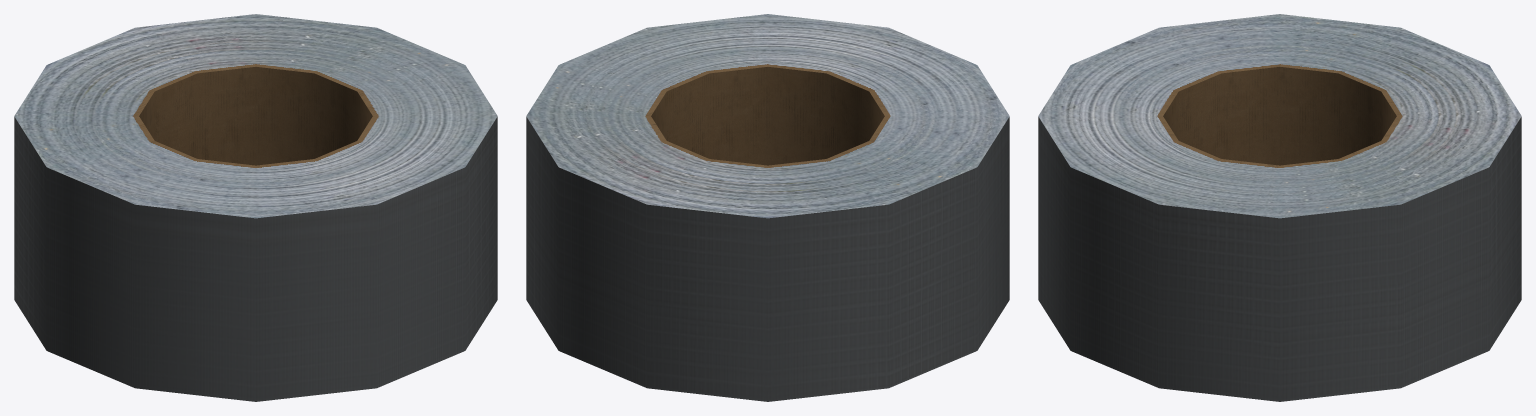
File: Klebeband.fbx
The picture shows the model from 3 angles, left to right: view 1: azimuth 30°, elevation 25°; view 2: azimuth 150°, elevation 25°; view 3: azimuth 270°, elevation 25°; orthographic projection.
Parts seen in each view (by area): view 1: Klebeband; view 2: Klebeband; view 3: Klebeband.
Boxes of the visible parts, box(x1,y1,x2,y2) form: Klebeband: box(14, 14, 497, 401); Klebeband: box(526, 14, 1009, 401); Klebeband: box(1038, 14, 1521, 401).
Bounding box in the file's own units: 0.2 × 0.0838 × 0.2.
